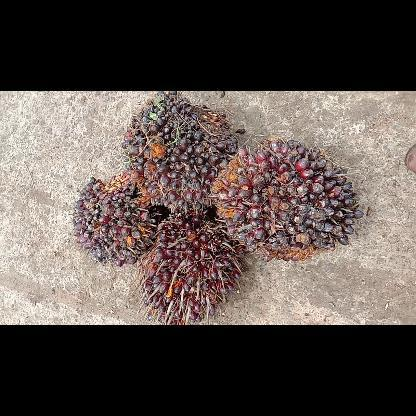Kurang masak: (211, 136, 367, 264), (118, 92, 237, 216), (135, 210, 247, 324), (70, 169, 164, 268)
